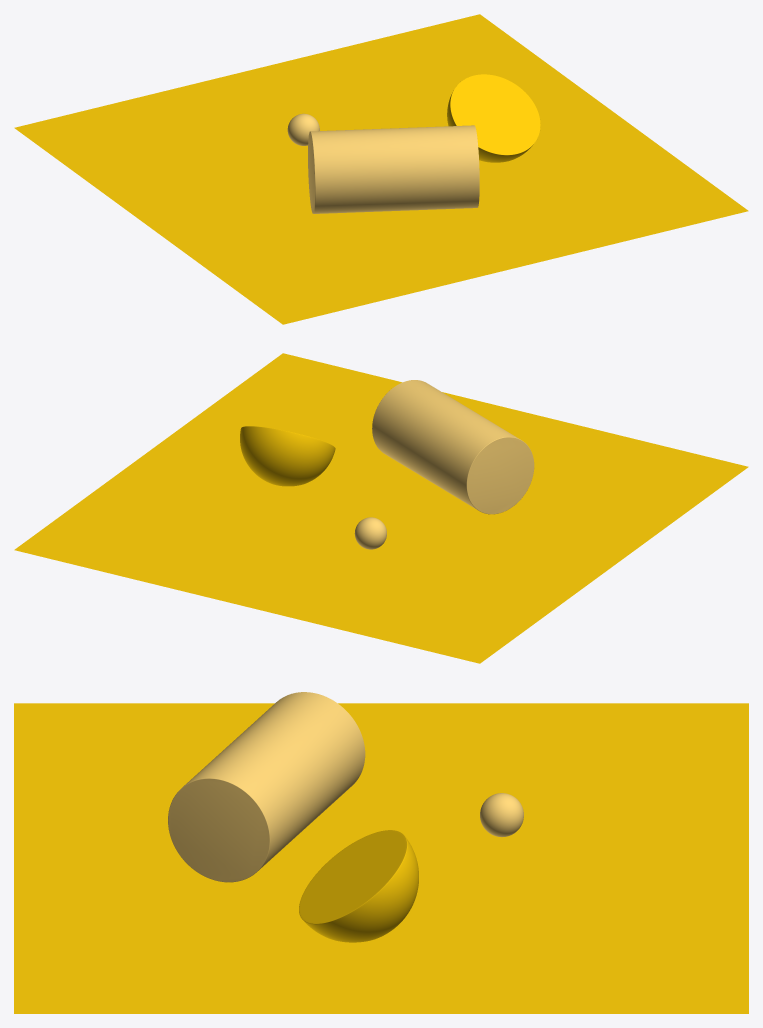
3 views of the same model, one above another, from view 1: azimuth 30°, elevation 25°; view 2: azimuth 150°, elevation 25°; view 3: azimuth 270°, elevation 25° (orthographic). The views are drawn at different scales.
Parts seen in each view (by area): view 1: Plane, Extrude_CYLINDER_L_01_1, HALF_SPHERE_03, SPHERE_01; view 2: Plane, Extrude_CYLINDER_L_01_1, HALF_SPHERE_03, SPHERE_01; view 3: Plane, Extrude_CYLINDER_L_01_1, HALF_SPHERE_03, SPHERE_01.
Part boxes in pixels (<box>): Plane: <box>14,14,748,324</box>; Extrude_CYLINDER_L_01_1: <box>308,125,479,213</box>; HALF_SPHERE_03: <box>447,74,540,162</box>; SPHERE_01: <box>287,113,319,145</box>; Plane: <box>14,353,748,663</box>; Extrude_CYLINDER_L_01_1: <box>372,380,534,514</box>; HALF_SPHERE_03: <box>240,426,335,486</box>; SPHERE_01: <box>354,517,386,549</box>; Plane: <box>14,703,748,1013</box>; Extrude_CYLINDER_L_01_1: <box>168,692,365,882</box>; HALF_SPHERE_03: <box>299,830,418,942</box>; SPHERE_01: <box>480,793,523,837</box>.
Bounding box in the file's own units: 20 × 3.36 × 20.
